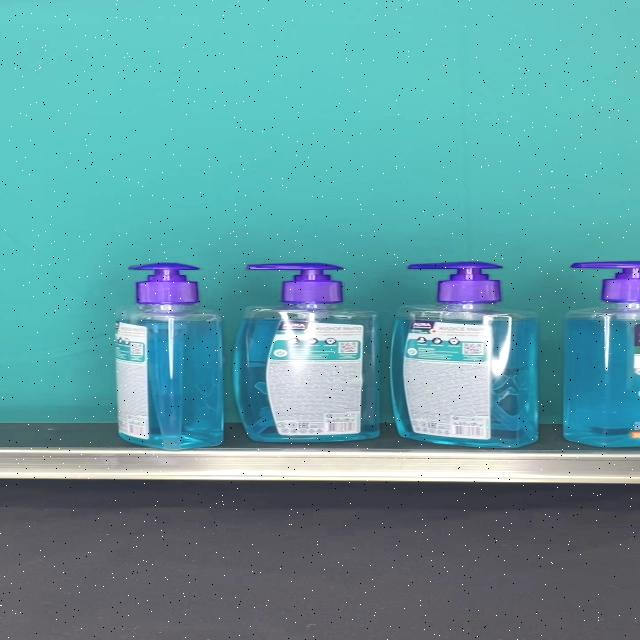Bottle: (390, 262, 539, 448), (234, 263, 379, 442), (114, 263, 223, 449)
Cap: (246, 263, 344, 305), (406, 262, 503, 303), (127, 263, 201, 305)
